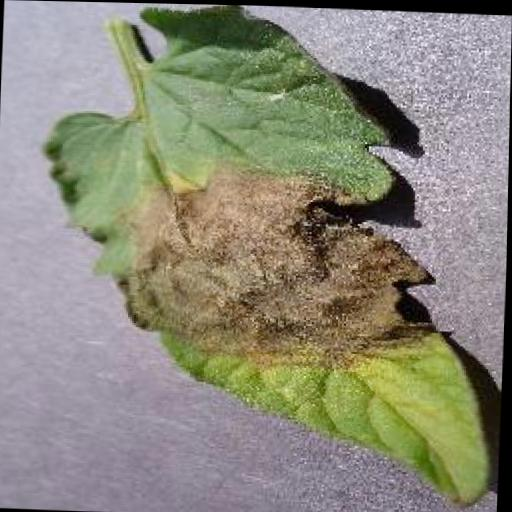Late Blight: (29, 1, 505, 508)
